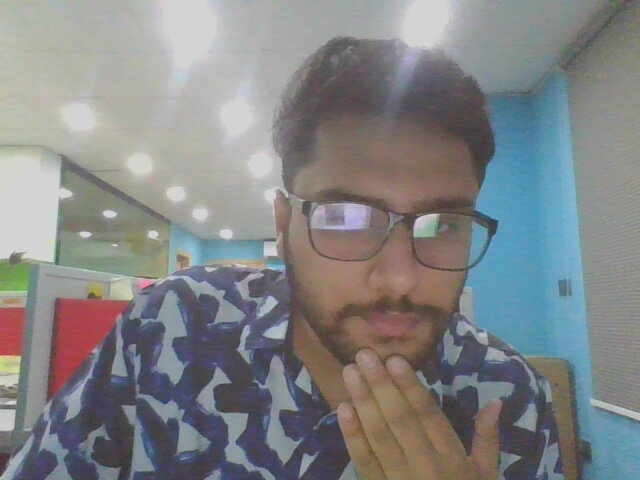thanks: (318, 331, 517, 480)
